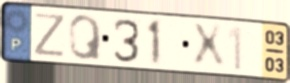1: (146, 17, 166, 69), (227, 24, 243, 72)
3: (112, 16, 142, 64)
Q: (67, 13, 104, 62)
X: (189, 21, 228, 70)
Z: (32, 11, 68, 60)
